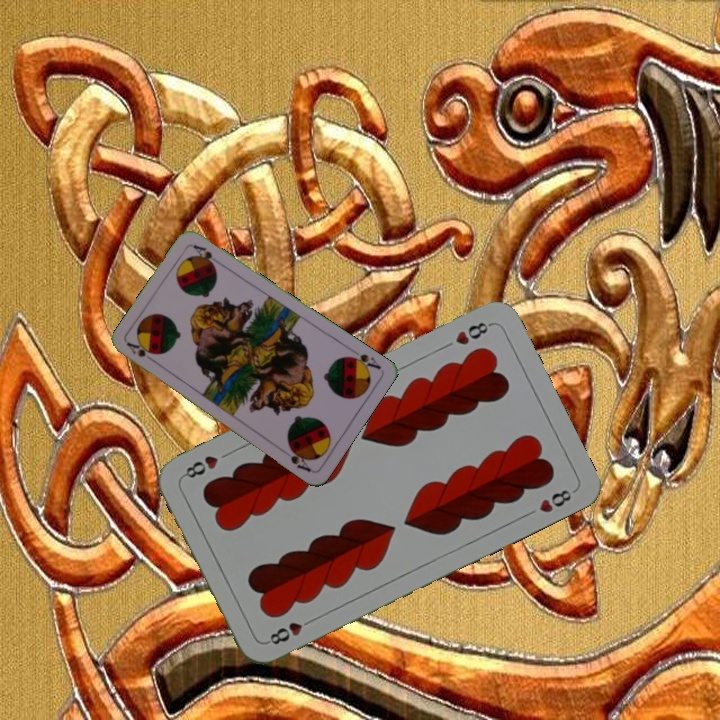H8: (262, 614, 317, 648), (451, 318, 494, 348)
SA: (123, 338, 160, 366), (343, 350, 383, 374)
